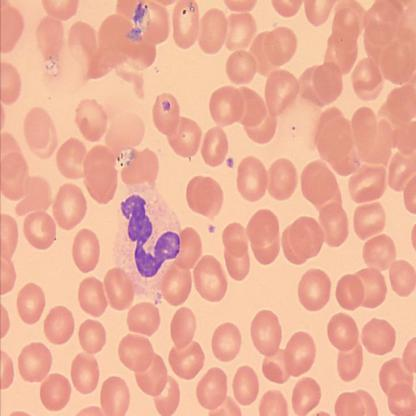Segmented neutrophil: (112, 182, 186, 298)
